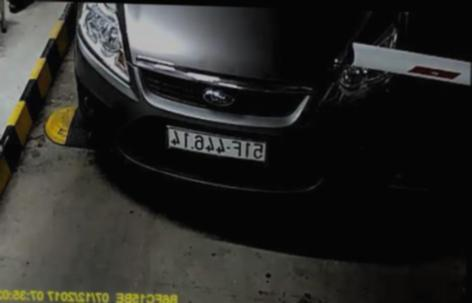License_Plate: (157, 125, 272, 162)
